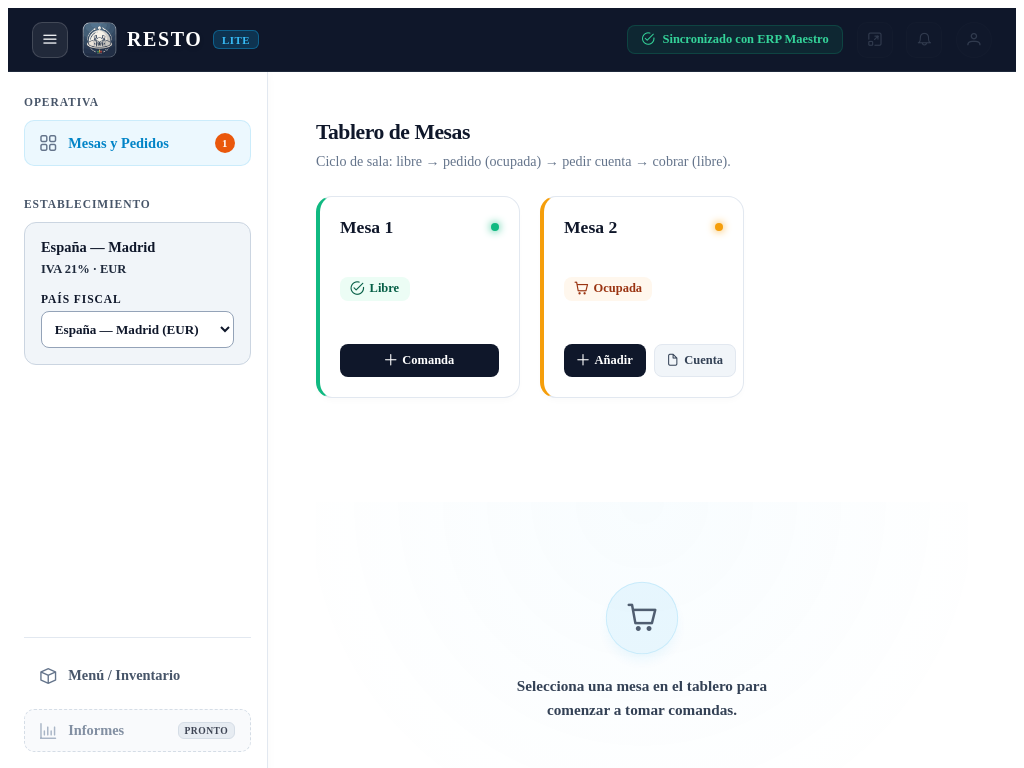
Tablero de Mesas y Toma de Pedidos E2E › debe cargar el tablero de mesas y permitir tomar comandas
This screenshot has width=1024, height=768.
Expected: the heading "Tablero de Mesas" is shown, x1=316 y1=120 x2=470 y2=144
Expected: the text "Mesa 1" is shown, x1=340 y1=217 x2=393 y2=238
Step 1. Click the button "Comanda" → (420,361), box x1=340 y1=344 x2=499 y2=377
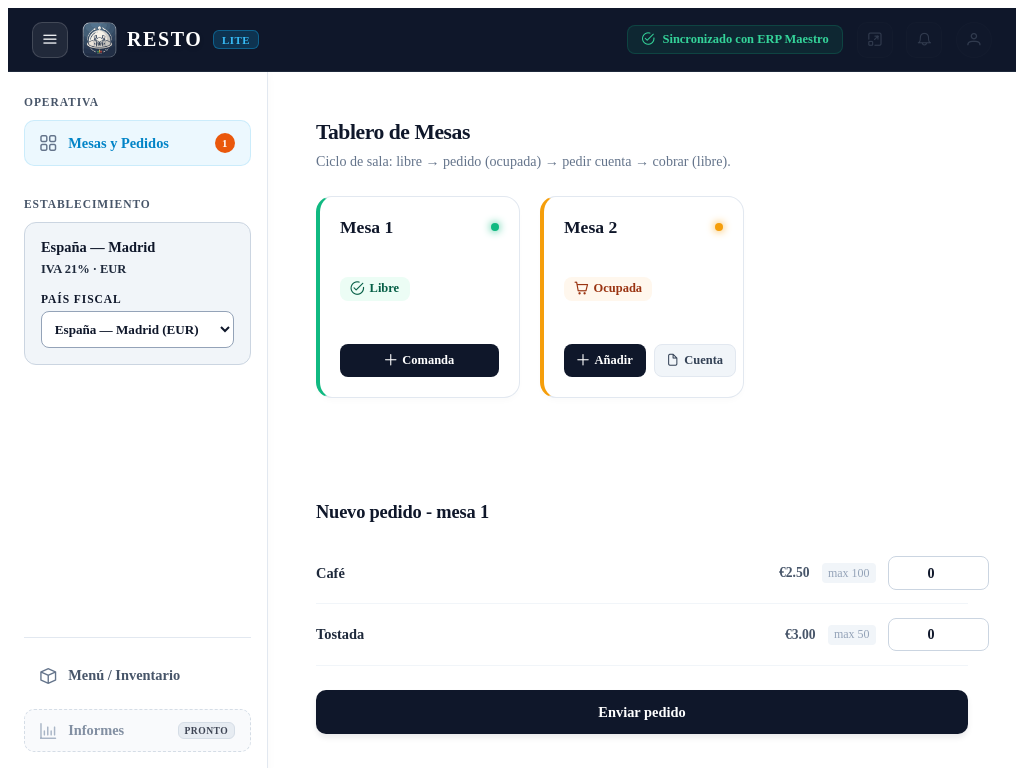
Now the heading "Nuevo pedido - mesa 1" is shown, box x1=316 y1=502 x2=489 y2=522
Step 2. Replace the text in the number field next to "max 100" with "2" → (939,574), box x1=888 y1=557 x2=989 y2=590
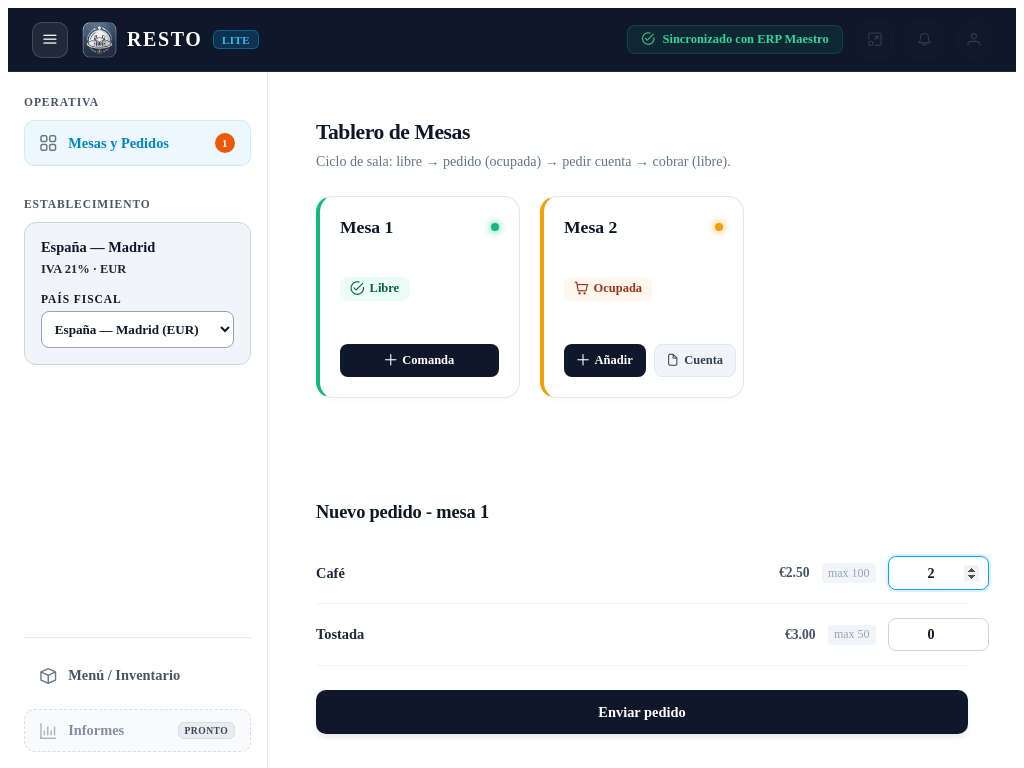
Step 3. Click the button "Enviar pedido" → (642,712), box x1=316 y1=690 x2=968 y2=734
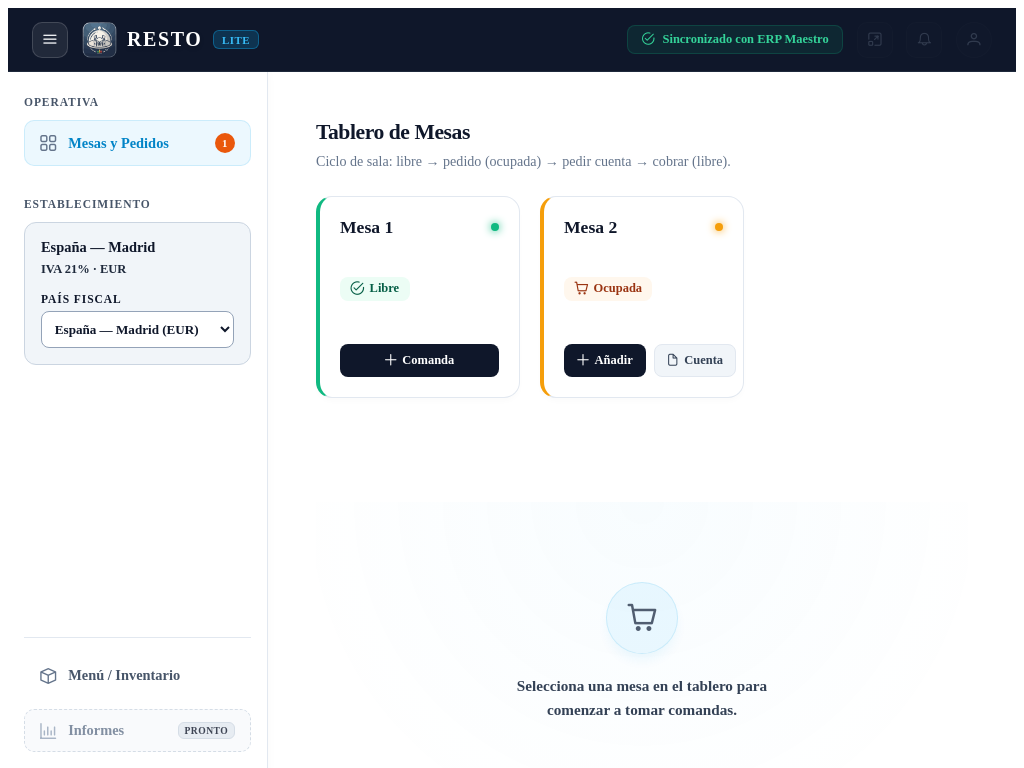
Now the text "Selecciona una mesa" is shown, box x1=498 y1=674 x2=786 y2=723
